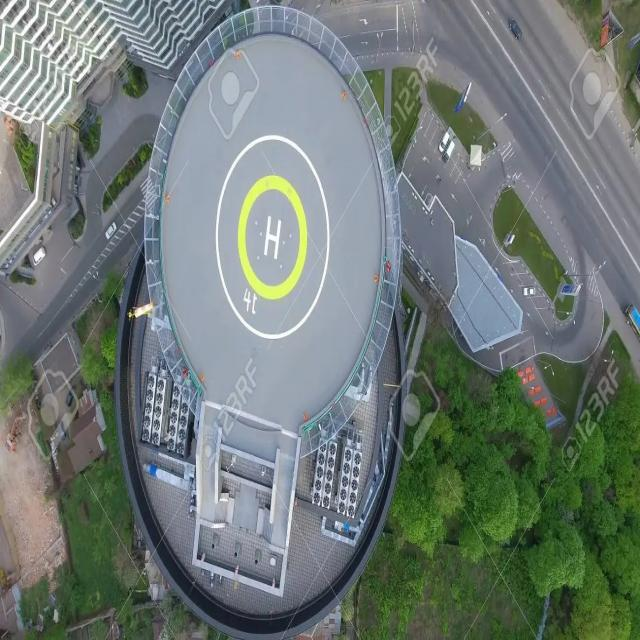helipad: (236, 172, 308, 300)
